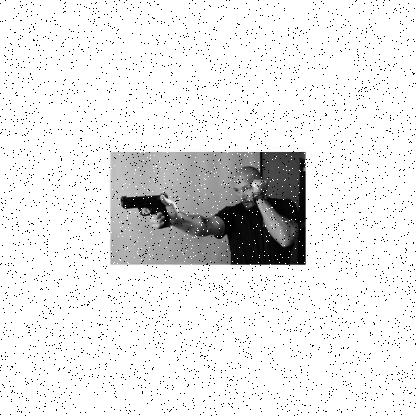gun: (119, 192, 170, 230)
